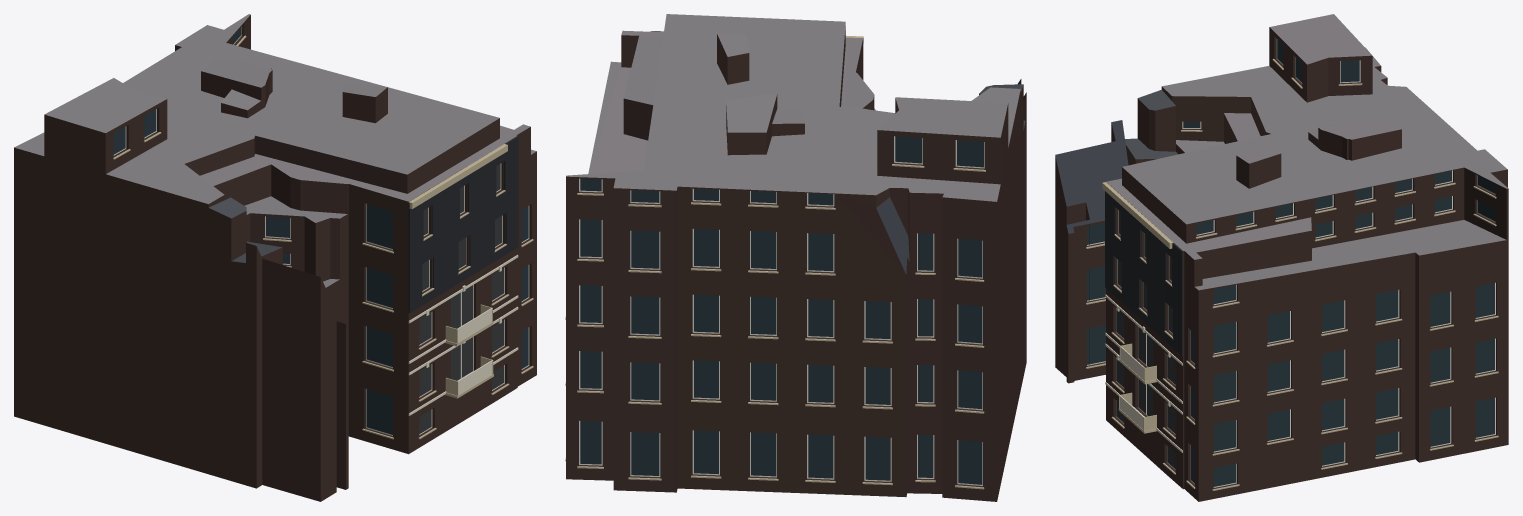
The model's file is recipe-large-van-eeghenstraat-180-236607.glb.
The picture shows the model from 3 angles, left to right: view 1: azimuth 30°, elevation 25°; view 2: azimuth 150°, elevation 25°; view 3: azimuth 270°, elevation 25°; orthographic projection. The views are drawn at different scales.
Visible parts, largest first — view 1: van-eeghenstraat-180-236607; view 2: van-eeghenstraat-180-236607; view 3: van-eeghenstraat-180-236607.
Boxes of the visible parts, bbox=[...] form: van-eeghenstraat-180-236607: bbox=[14, 14, 536, 501]; van-eeghenstraat-180-236607: bbox=[565, 14, 1026, 501]; van-eeghenstraat-180-236607: bbox=[1055, 14, 1508, 501].
Bounding box in the file's own units: 32 × 21.88 × 30.61.
